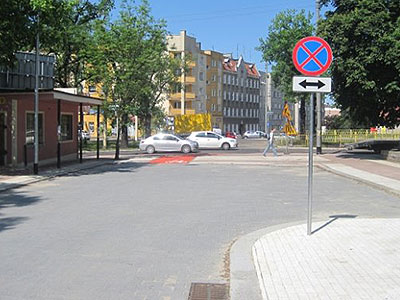no_stopping_sign: (292, 35, 332, 76)
